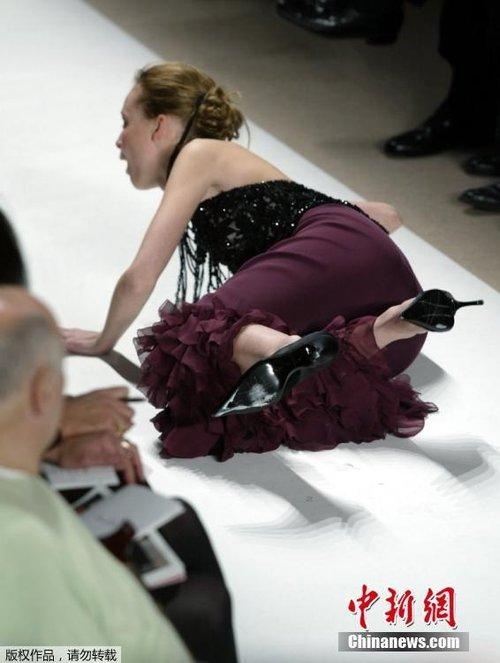fall: (66, 54, 476, 466)
